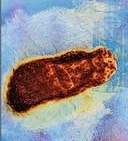Corrosion: (3, 44, 119, 117)
